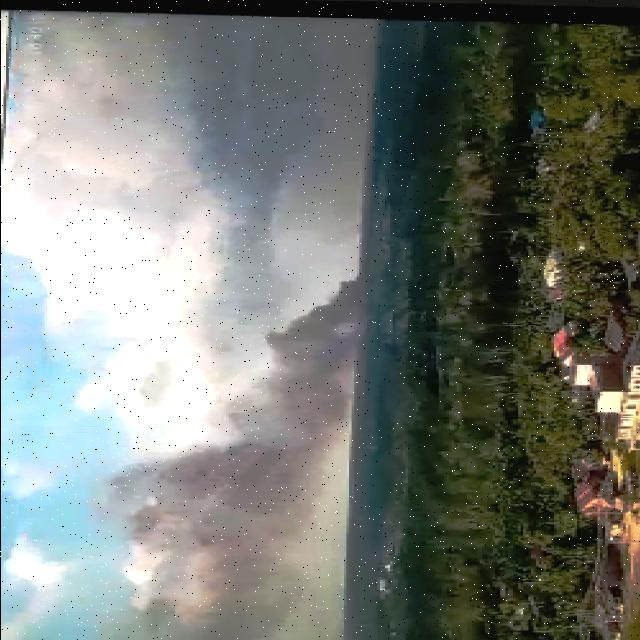asap: (81, 269, 385, 640)
